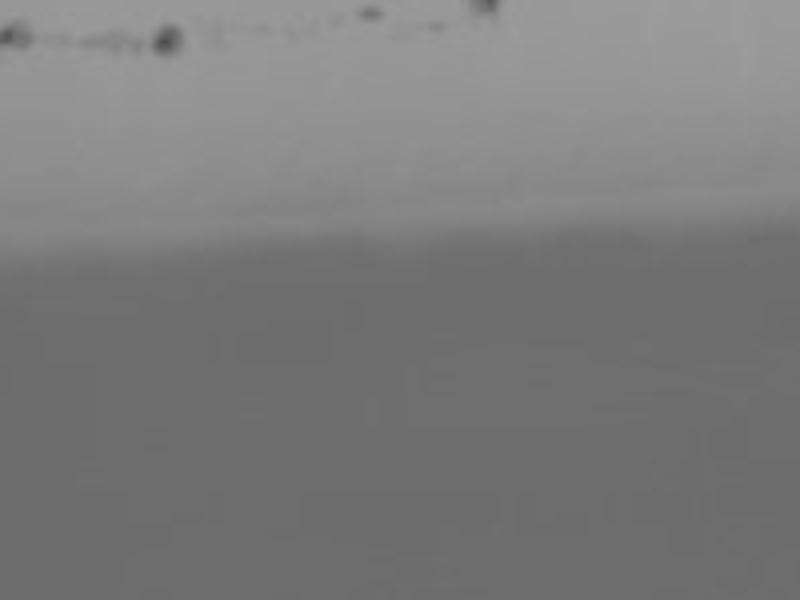defect: (81, 31, 130, 56), (150, 23, 184, 55), (358, 1, 392, 23), (2, 21, 26, 51), (467, 1, 498, 21), (426, 17, 447, 36)
